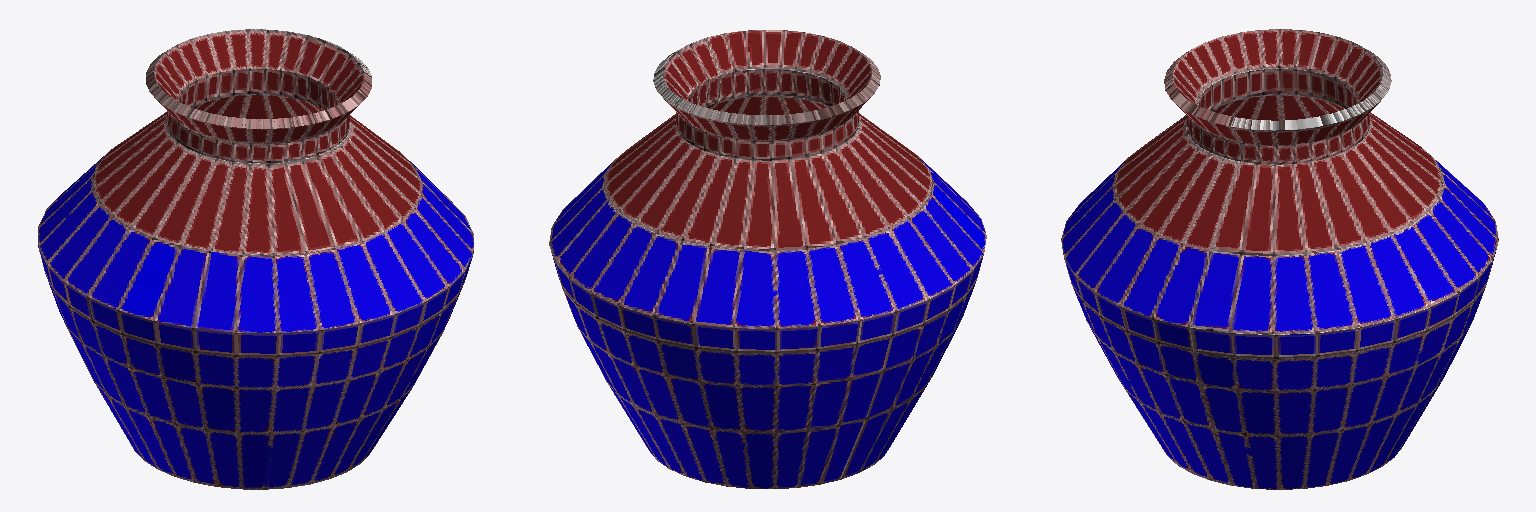
3 views of the same model, side by side, from view 1: azimuth 30°, elevation 25°; view 2: azimuth 150°, elevation 25°; view 3: azimuth 270°, elevation 25° (orthographic).
Parts seen in each view (by area): view 1: Circle; view 2: Circle; view 3: Circle.
Part boxes in pixels (x1,y1,x2,y2): Circle: (38,29,473,489); Circle: (549,30,986,488); Circle: (1061,29,1498,489).
Bounding box in the file's own units: 0.6601 × 0.6116 × 0.6601.
1 materials, 1 textured.